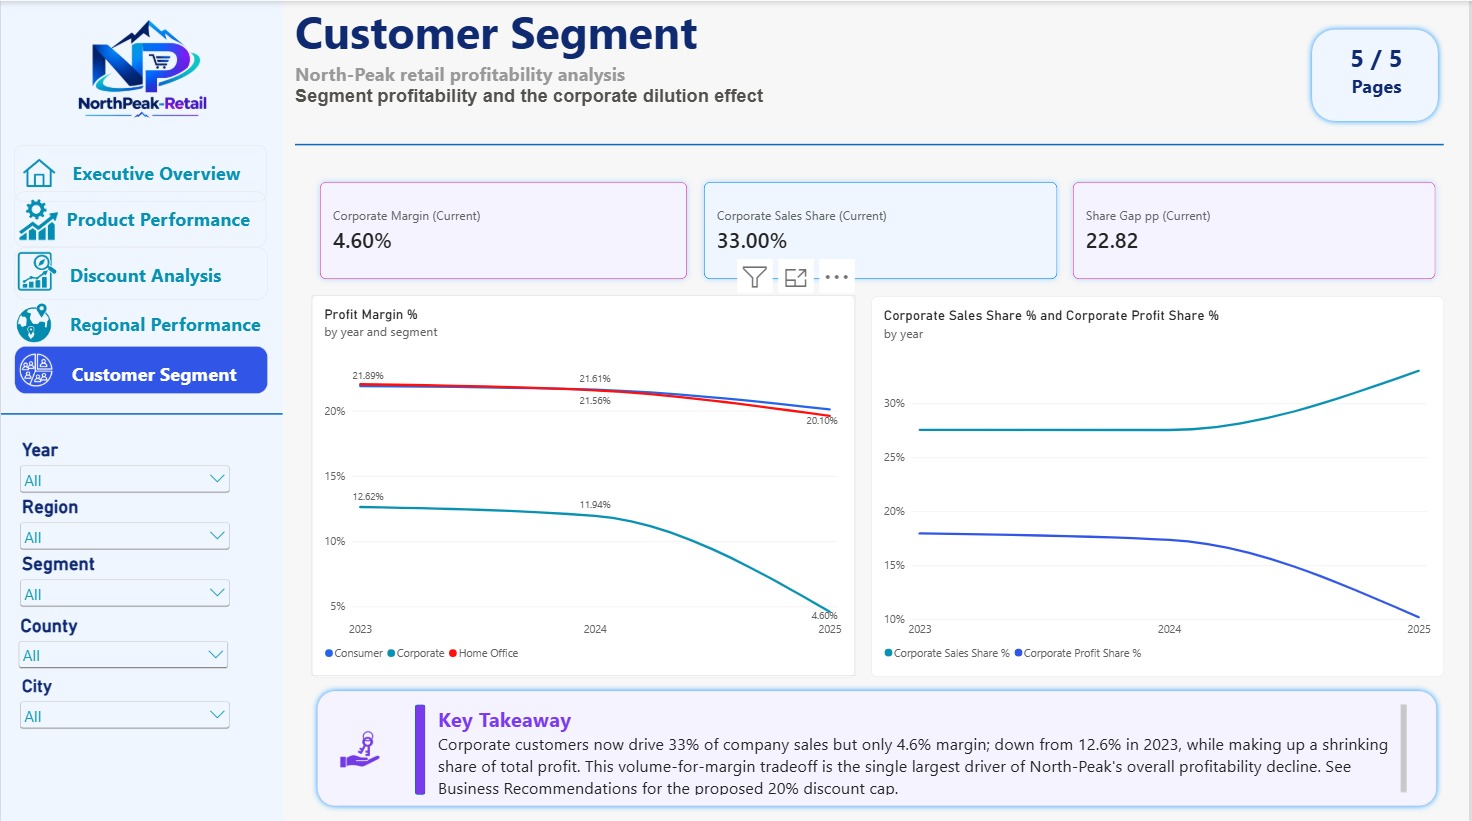

This screenshot's page, from the dashboard's own definition file:
{"tool":"powerbi","page":{"name":"Customer segment","canvas":[1920,1080],"ordinal":4},"visuals":[{"type":"shape","box":[0,0,368.7,1078.7],"z":0},{"type":"image","box":[0,0,368,182],"z":1000},{"type":"slicer","fields":{"Values":["dim_date.year"]},"box":[19.6,572.7,284,76],"z":2000},{"type":"slicer","fields":{"Values":["dim_region.region"]},"box":[19.6,647.2,284,74],"z":3000},{"type":"slicer","fields":{"Values":["dim_customer.segment"]},"box":[19.6,721.8,284,100],"z":4000},{"type":"slicer","fields":{"Values":["dim_region.county"]},"box":[17.7,802.2,284,92],"z":5000},{"type":"slicer","fields":{"Values":["dim_region.city"]},"box":[19.6,882.6,284,74],"z":6000},{"type":"shape","box":[384,164,1502,46],"z":7000},{"type":"shape","box":[406.6,894.9,1478.6,165.8],"z":8000},{"type":"textbox","box":[18,188,330,74],"z":9000},{"type":"textbox","box":[17.7,249.1,329.5,72.6],"z":10000},{"type":"textbox","box":[17.3,321.5,331.4,69.2],"z":11000},{"type":"textbox","box":[17.3,385.8,328.9,64.3],"z":12000},{"type":"textbox","box":[17.7,451.1,331.5,62.8],"z":13000},{"type":"shape","box":[0,513.9,368,52],"z":14000},{"type":"shape","box":[1706.3,29.4,180.4,135.3],"z":15000},{"type":"textbox","box":[1731.8,51,133.4,96.1],"z":16000},{"type":"shape","box":[540.6,919.9,13.6,118.1],"z":17000},{"type":"textbox","box":[570.1,919.9,1267.4,118.1],"z":18000},{"type":"image","box":[422.5,894.9,95.4,168.1],"z":19000},{"type":"image","box":[19.6,198.1,60.8,54.9],"z":20000},{"type":"shape","box":[19.6,188.3,327.5,56.9],"z":21000},{"type":"textbox","box":[384.4,0,1292.5,164.7],"z":22000},{"type":"image","box":[7.4,252.3,79.1,64.3],"z":23000},{"type":"shape","box":[17.3,252.3,328.9,64.3],"z":24000},{"type":"image","box":[11.4,322.5,70.4,63.6],"z":25000},{"type":"cardVisual","fields":{"Data":["fact_sales.Corporate Margin (Current)"]},"box":[406,225.5,502.1,149.1],"z":26000},{"type":"cardVisual","fields":{"Data":["fact_sales.Corporate Sales Share (Current)"]},"box":[908.1,225.5,484.4,149.1],"z":27000},{"type":"cardVisual","fields":{"Data":["fact_sales.Share Gap pp (Current)"]},"box":[1390.6,225.5,496.2,149.1],"z":28000},{"type":"lineChart","fields":{"Category":["dim_date.year"],"Series":["dim_customer.segment"],"Y":["fact_sales.Profit Margin %"]},"box":[406.6,383.9,710.9,499.7],"z":29000},{"type":"lineChart","fields":{"Category":["dim_date.year"],"Y":["fact_sales.Corporate Sales Share %","fact_sales.Corporate Profit Share %"]},"box":[1137.9,386.1,749.5,497.4],"z":30000},{"type":"image","box":[11.8,392.3,62.8,58.8],"z":31000},{"type":"image","box":[19.6,453.1,53,58.8],"z":32000}]}

Visuals, with their boxes on the page's 1920x1080 design canvas (x1, y1, x2, y2). These are canvas units, not pixel positions in the 1472x821 screenshot, which may show the page scaled, cropped or inside an application window:
shape: detection(0, 0, 369, 1079)
image: detection(0, 0, 368, 182)
slicer - dim_date.year: detection(20, 573, 304, 649)
slicer - dim_region.region: detection(20, 647, 304, 721)
slicer - dim_customer.segment: detection(20, 722, 304, 822)
slicer - dim_region.county: detection(18, 802, 302, 894)
slicer - dim_region.city: detection(20, 883, 304, 957)
shape: detection(384, 164, 1886, 210)
shape: detection(407, 895, 1885, 1061)
textbox: detection(18, 188, 348, 262)
textbox: detection(18, 249, 347, 322)
textbox: detection(17, 322, 349, 391)
textbox: detection(17, 386, 346, 450)
textbox: detection(18, 451, 349, 514)
shape: detection(0, 514, 368, 566)
shape: detection(1706, 29, 1887, 165)
textbox: detection(1732, 51, 1865, 147)
shape: detection(541, 920, 554, 1038)
textbox: detection(570, 920, 1838, 1038)
image: detection(422, 895, 518, 1063)
image: detection(20, 198, 80, 253)
shape: detection(20, 188, 347, 245)
textbox: detection(384, 0, 1677, 165)
image: detection(7, 252, 86, 317)
shape: detection(17, 252, 346, 317)
image: detection(11, 322, 82, 386)
cardVisual - fact_sales.Corporate Margin (Current): detection(406, 226, 908, 375)
cardVisual - fact_sales.Corporate Sales Share (Current): detection(908, 226, 1392, 375)
cardVisual - fact_sales.Share Gap pp (Current): detection(1391, 226, 1887, 375)
lineChart - dim_date.year x dim_customer.segment: detection(407, 384, 1118, 884)
lineChart - dim_date.year x fact_sales.Corporate Sales Share %: detection(1138, 386, 1887, 884)
image: detection(12, 392, 75, 451)
image: detection(20, 453, 73, 512)
